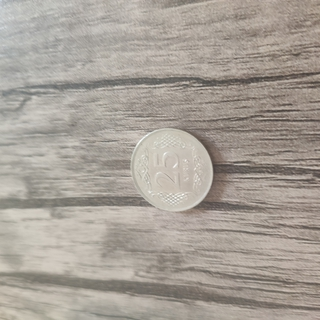25KURUS: (129, 126, 215, 214)
